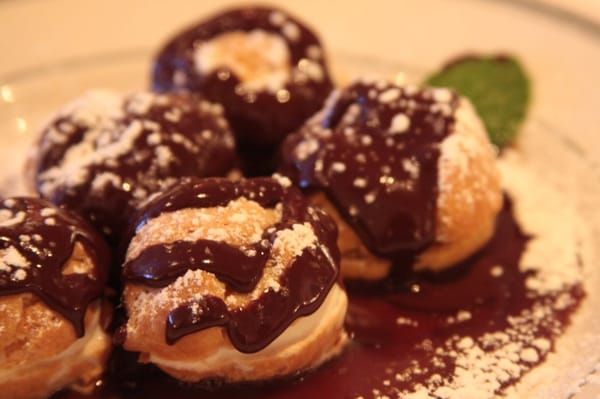salad: (119, 176, 351, 385), (277, 77, 506, 282), (29, 87, 243, 230), (149, 6, 337, 159), (0, 194, 113, 337)
